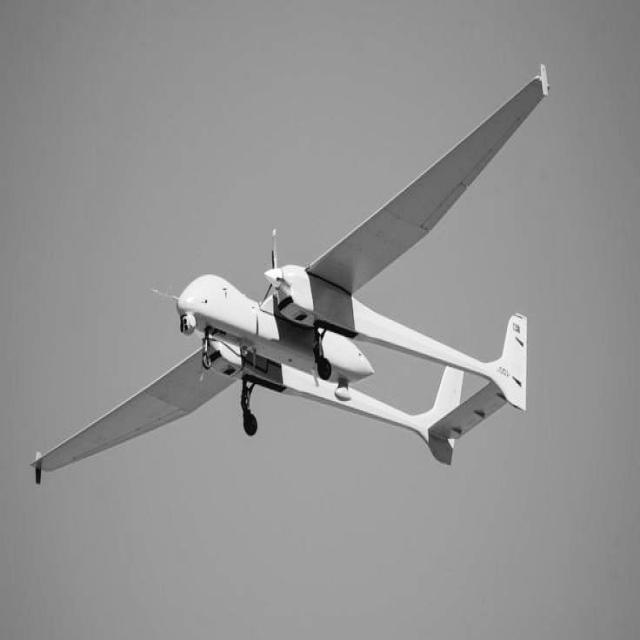iha: (26, 1, 547, 483), (32, 1, 547, 483)
